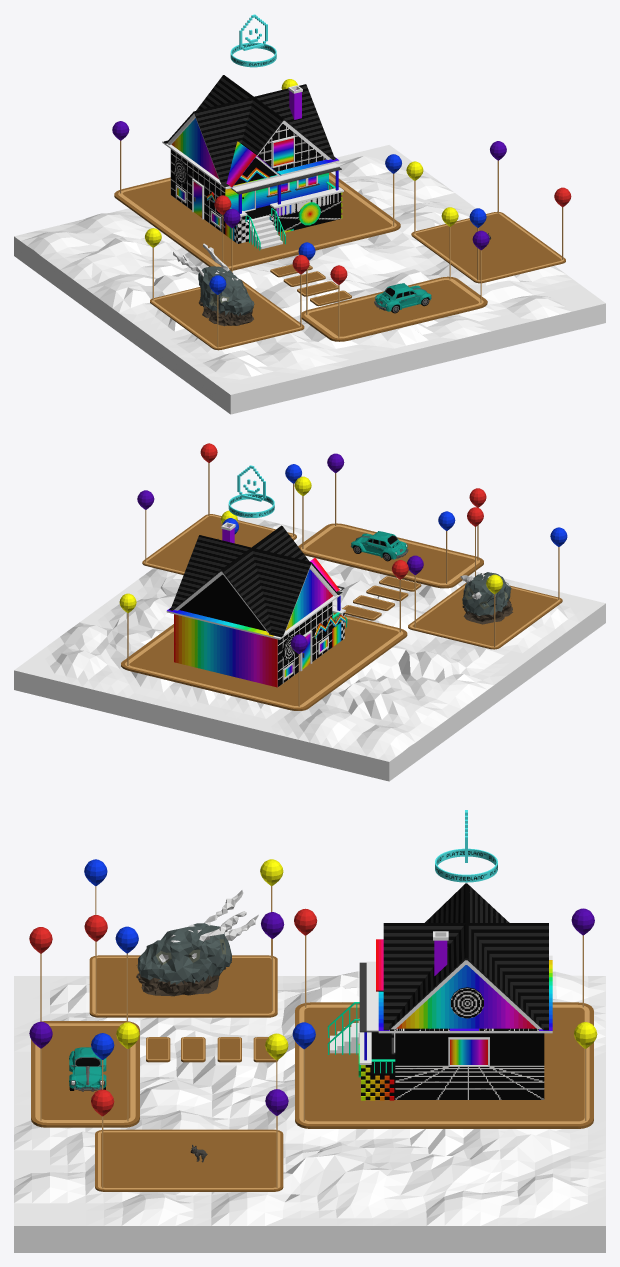
3 renders of one model, top to bottom at view 1: azimuth 30°, elevation 25°; view 2: azimuth 150°, elevation 25°; view 3: azimuth 270°, elevation 25°, orthographic. The views are drawn at different scales.
Parts seen in each view (by area): view 1: Cube.013, Cube.1320, OBJRANDOM_METEORITE, VEHICLES_VOLKSWAGEN, TYPE_PREMIUM; view 2: Cube.013, Cube.1320, OBJRANDOM_METEORITE, VEHICLES_VOLKSWAGEN, TYPE_PREMIUM; view 3: Cube.013, Cube.1320, OBJRANDOM_METEORITE, VEHICLES_VOLKSWAGEN, TYPE_PREMIUM.
Boxes of the visible parts, x1=… form: Cube.013: x1=14, y1=79, x2=605, y2=414; Cube.1320: x1=162, y1=75, x2=343, y2=250; OBJRANDOM_METEORITE: x1=173, y1=243, x2=254, y2=326; VEHICLES_VOLKSWAGEN: x1=374, y1=283, x2=431, y2=313; TYPE_PREMIUM: x1=230, y1=14, x2=276, y2=67; Cube.013: x1=14, y1=443, x2=605, y2=781; Cube.1320: x1=166, y1=522, x2=347, y2=687; OBJRANDOM_METEORITE: x1=460, y1=572, x2=512, y2=624; VEHICLES_VOLKSWAGEN: x1=350, y1=531, x2=408, y2=561; TYPE_PREMIUM: x1=228, y1=465, x2=274, y2=517; Cube.013: x1=14, y1=859, x2=605, y2=1252; Cube.1320: x1=327, y1=883, x2=552, y2=1100; OBJRANDOM_METEORITE: x1=136, y1=890, x2=258, y2=996; VEHICLES_VOLKSWAGEN: x1=69, y1=1047, x2=106, y2=1091; TYPE_PREMIUM: x1=435, y1=810, x2=497, y2=882.
Bounding box in the file's own units: 4000 × 2459 × 4000.
Materials: 34 (4 with a texture image).
